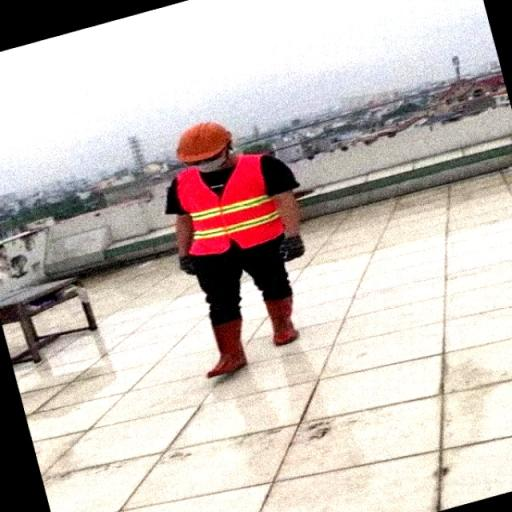Person: (128, 91, 334, 405)
boots: (192, 311, 254, 383), (258, 288, 308, 350)
gloves: (173, 242, 203, 276), (274, 236, 306, 265)
helmet: (169, 114, 236, 164)
vest: (169, 162, 287, 256)
